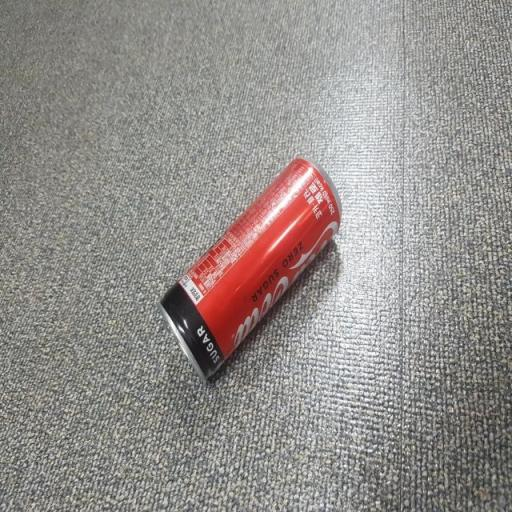metal: (140, 133, 368, 401)
